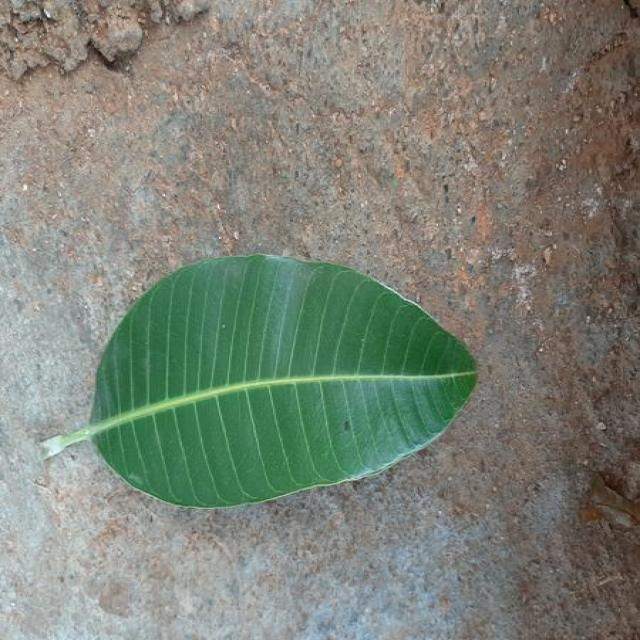mango: (43, 256, 477, 507)
